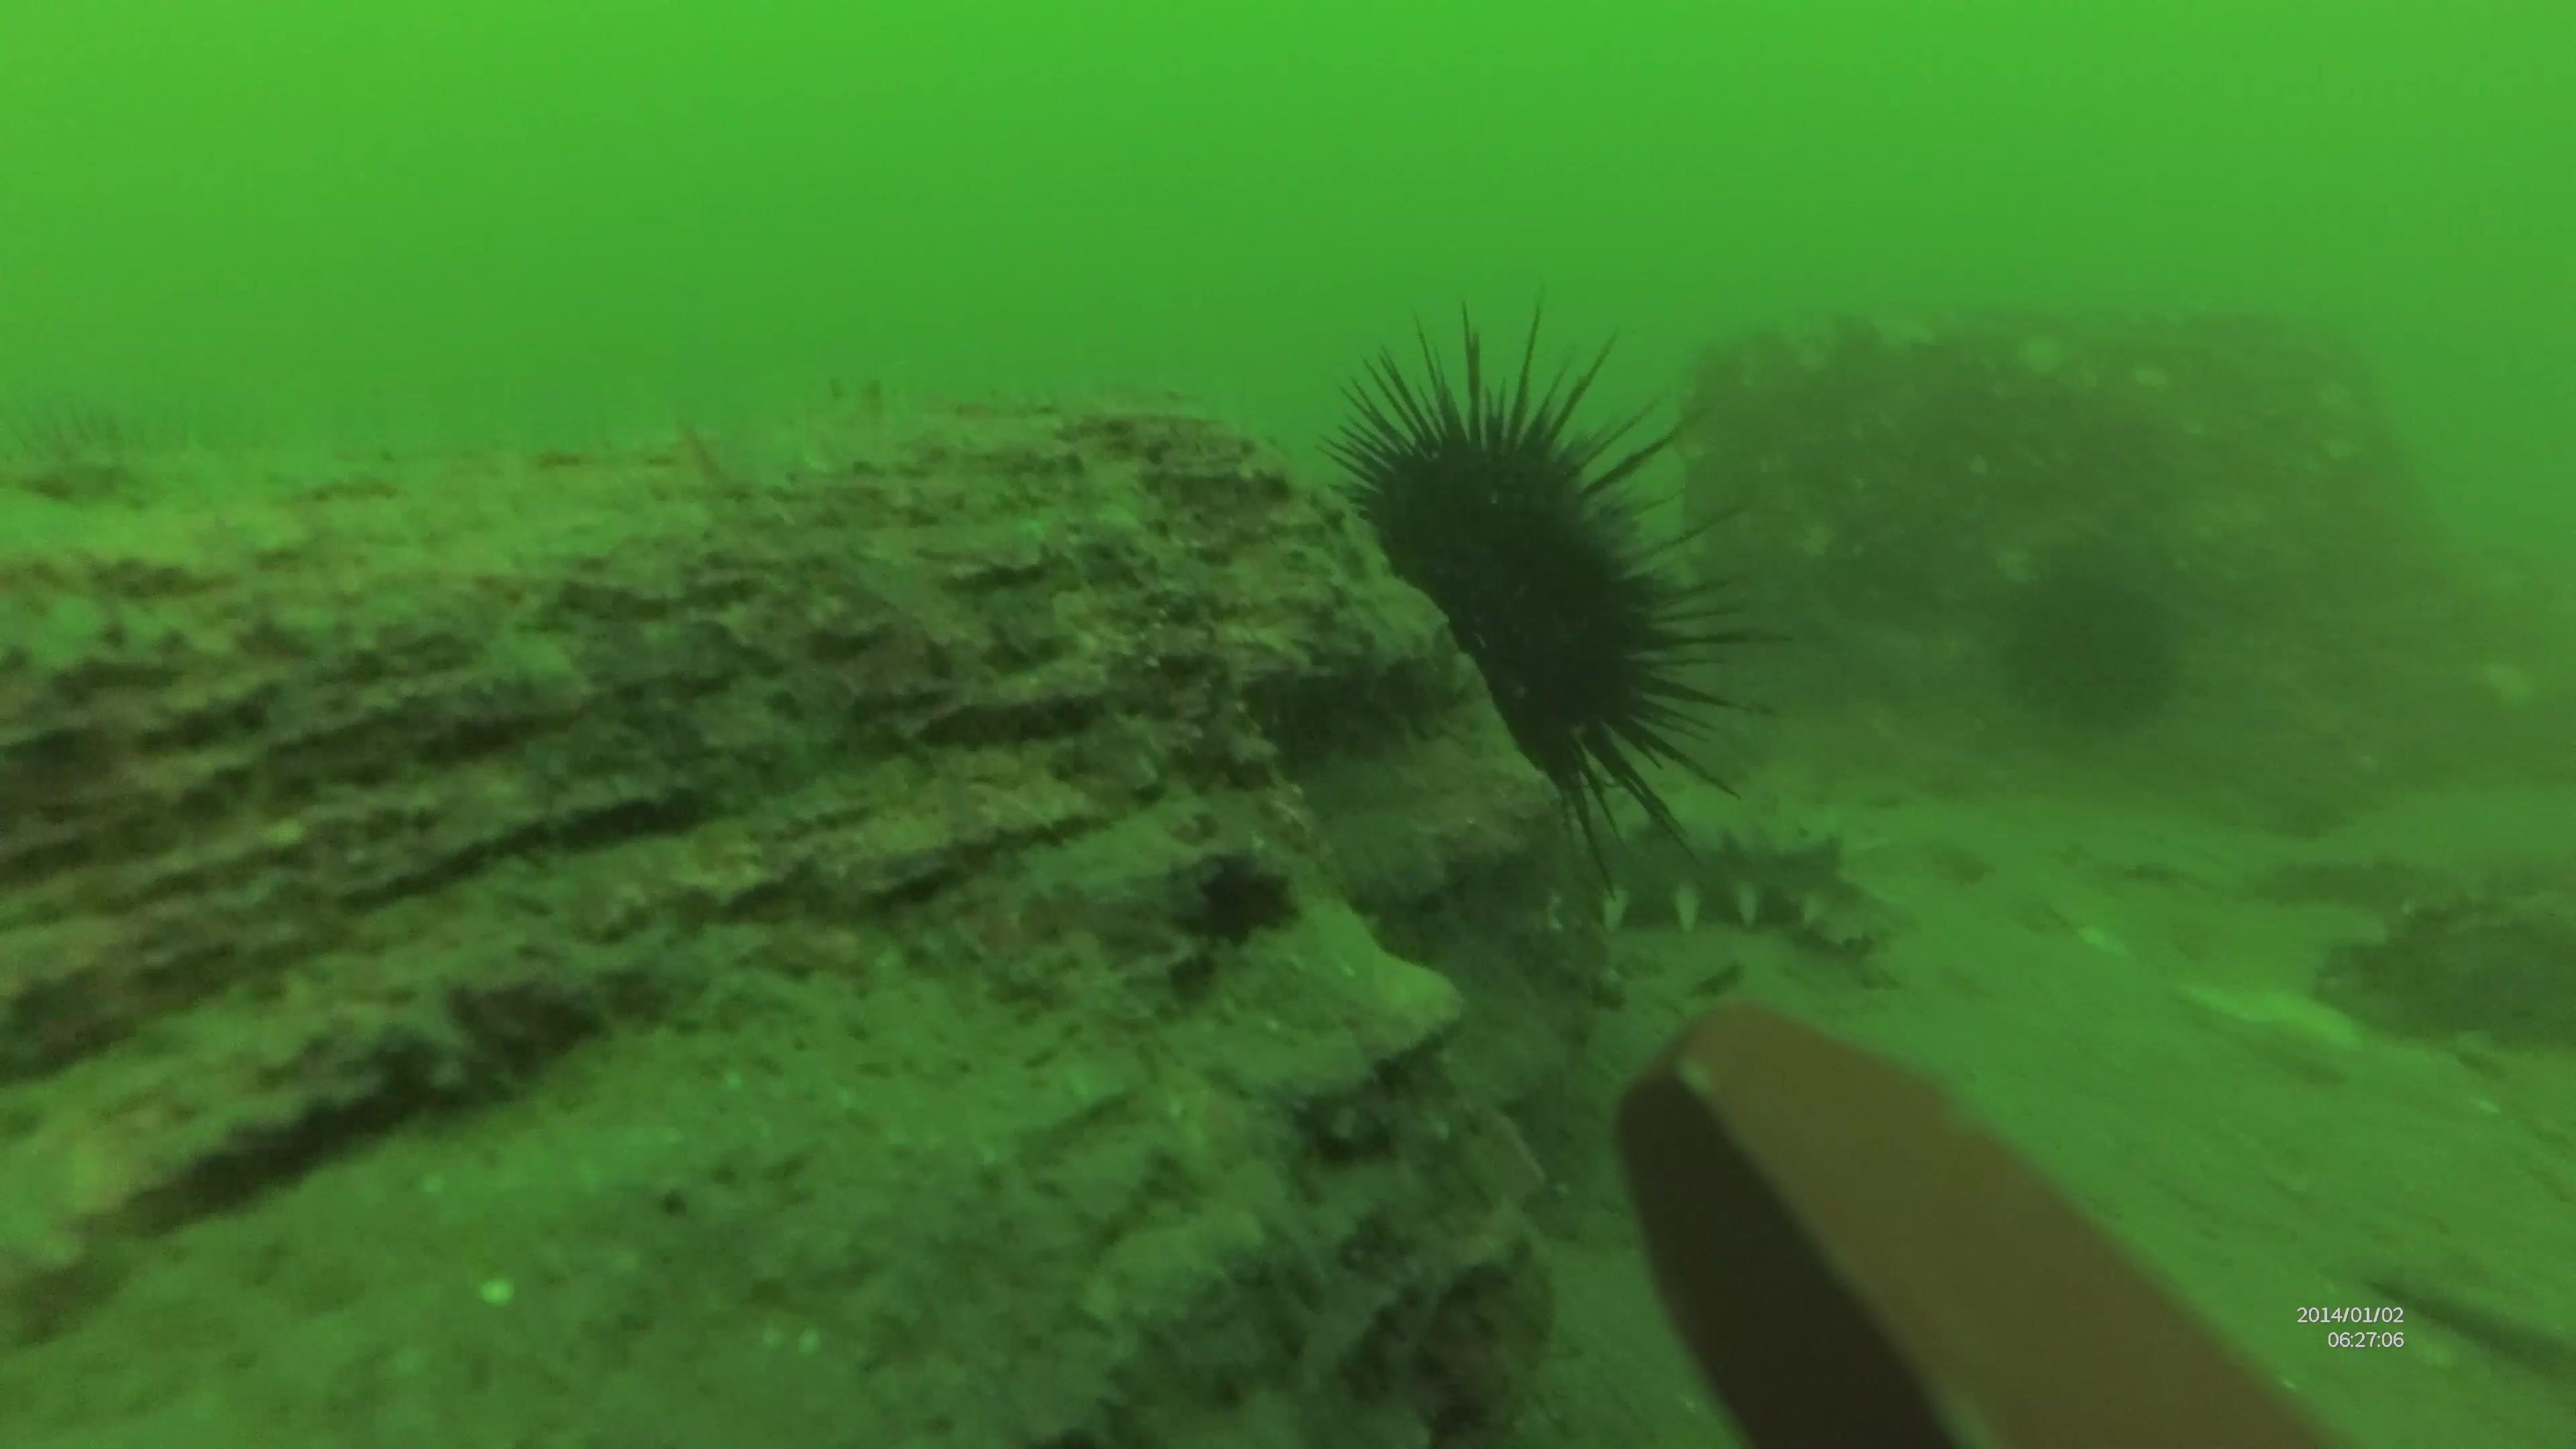echinus: (1299, 336, 1704, 770), (1996, 566, 2181, 748)
holothurian: (1546, 832, 1909, 959)
